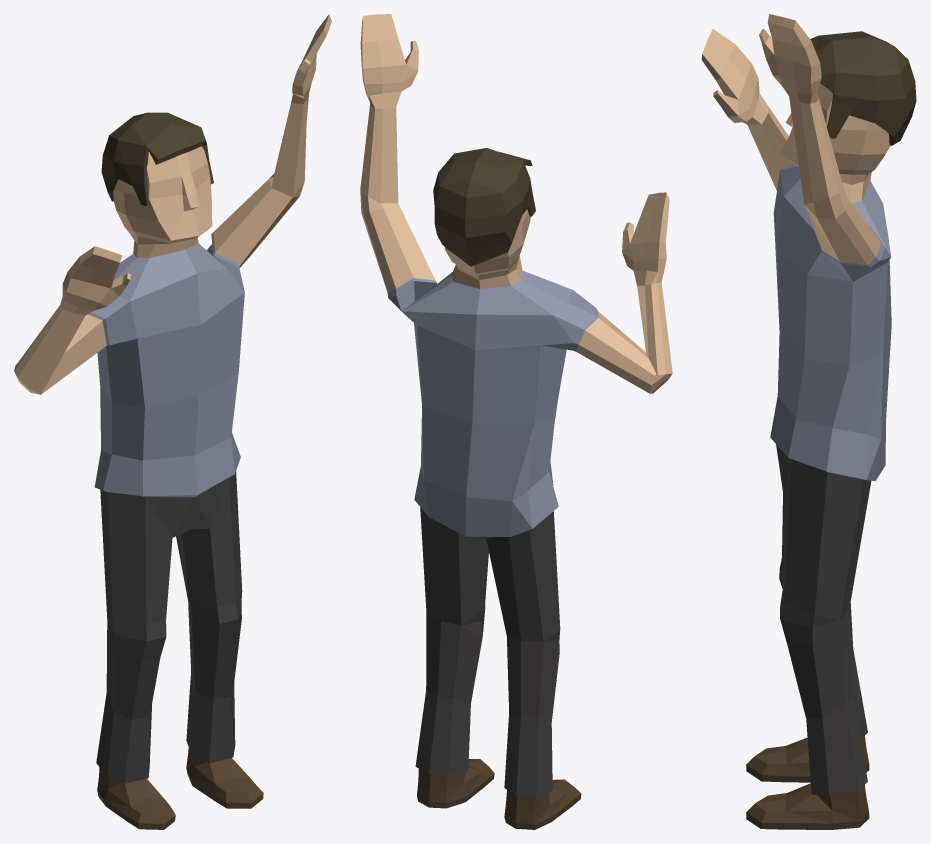
File: Male_Crowd_Dancing.glb
The picture shows the model from 3 angles, left to right: view 1: azimuth 30°, elevation 25°; view 2: azimuth 150°, elevation 25°; view 3: azimuth 270°, elevation 25°; orthographic projection. The views are drawn at different scales.
Visible parts, largest first — view 1: Male_Crowd_Dancing; view 2: Male_Crowd_Dancing; view 3: Male_Crowd_Dancing.
Part boxes in pixels (x1=…): Male_Crowd_Dancing: x1=14, y1=14, x2=331, y2=829; Male_Crowd_Dancing: x1=360, y1=14, x2=672, y2=829; Male_Crowd_Dancing: x1=701, y1=14, x2=916, y2=829.
Bounding box in the file's own units: 0.8818 × 2.02 × 0.4616.
